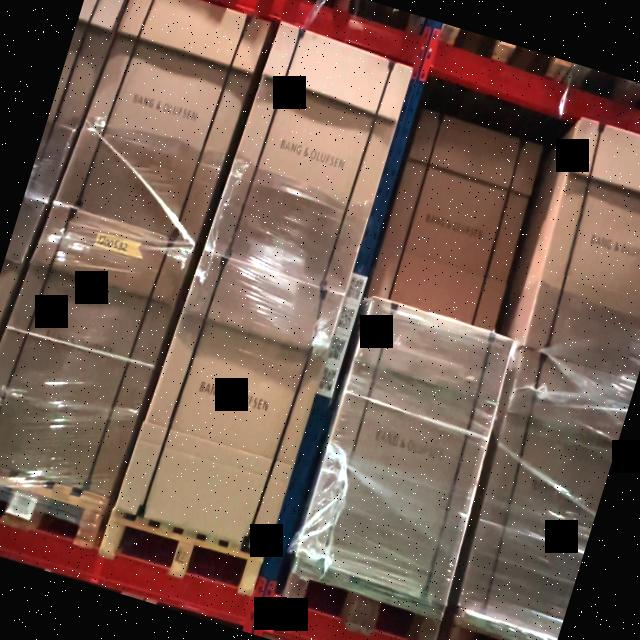box: (124, 251, 345, 551), (295, 299, 513, 597), (0, 202, 187, 496), (210, 28, 412, 290), (68, 0, 266, 241), (368, 110, 542, 329)
